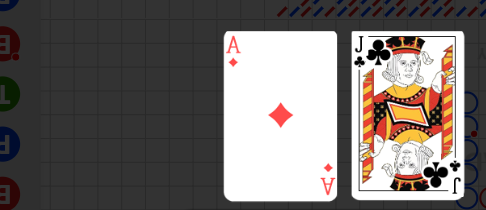AD: (226, 34, 243, 70)
JC: (447, 157, 463, 195)
